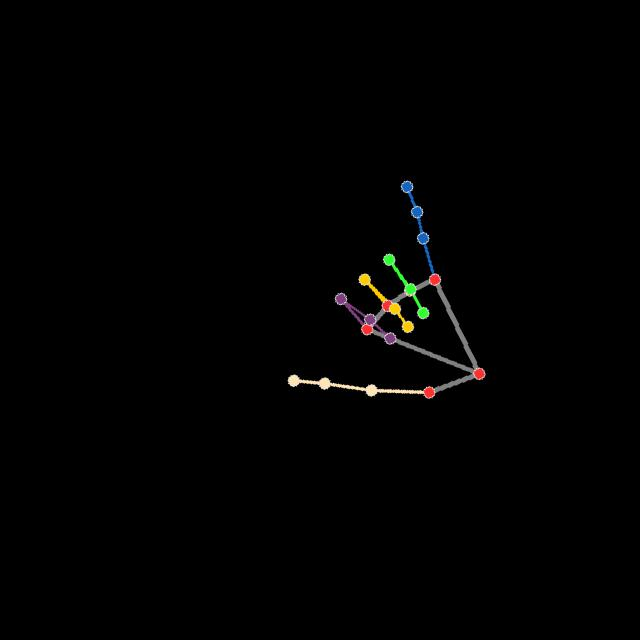skr: (285, 178, 489, 402)
